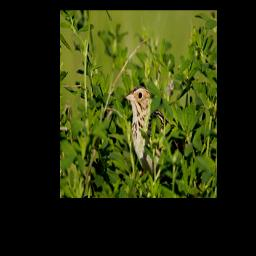Sparrow: (124, 84, 188, 186)
